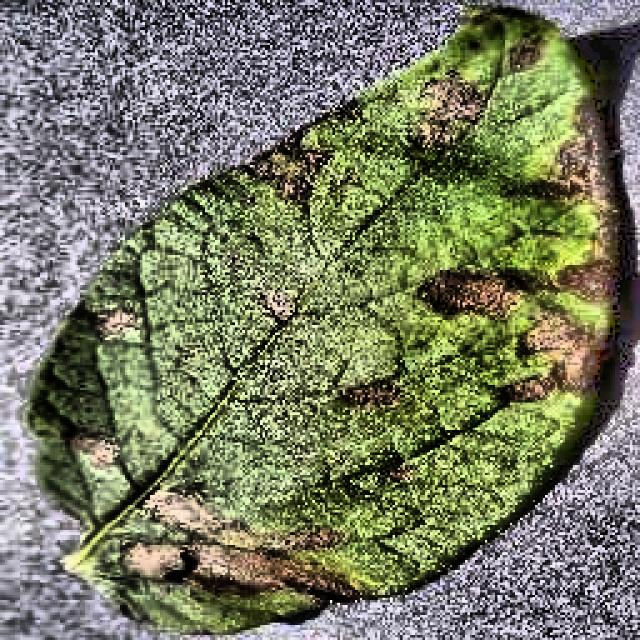Potato_leaf_early_blight: (32, 8, 615, 630)
